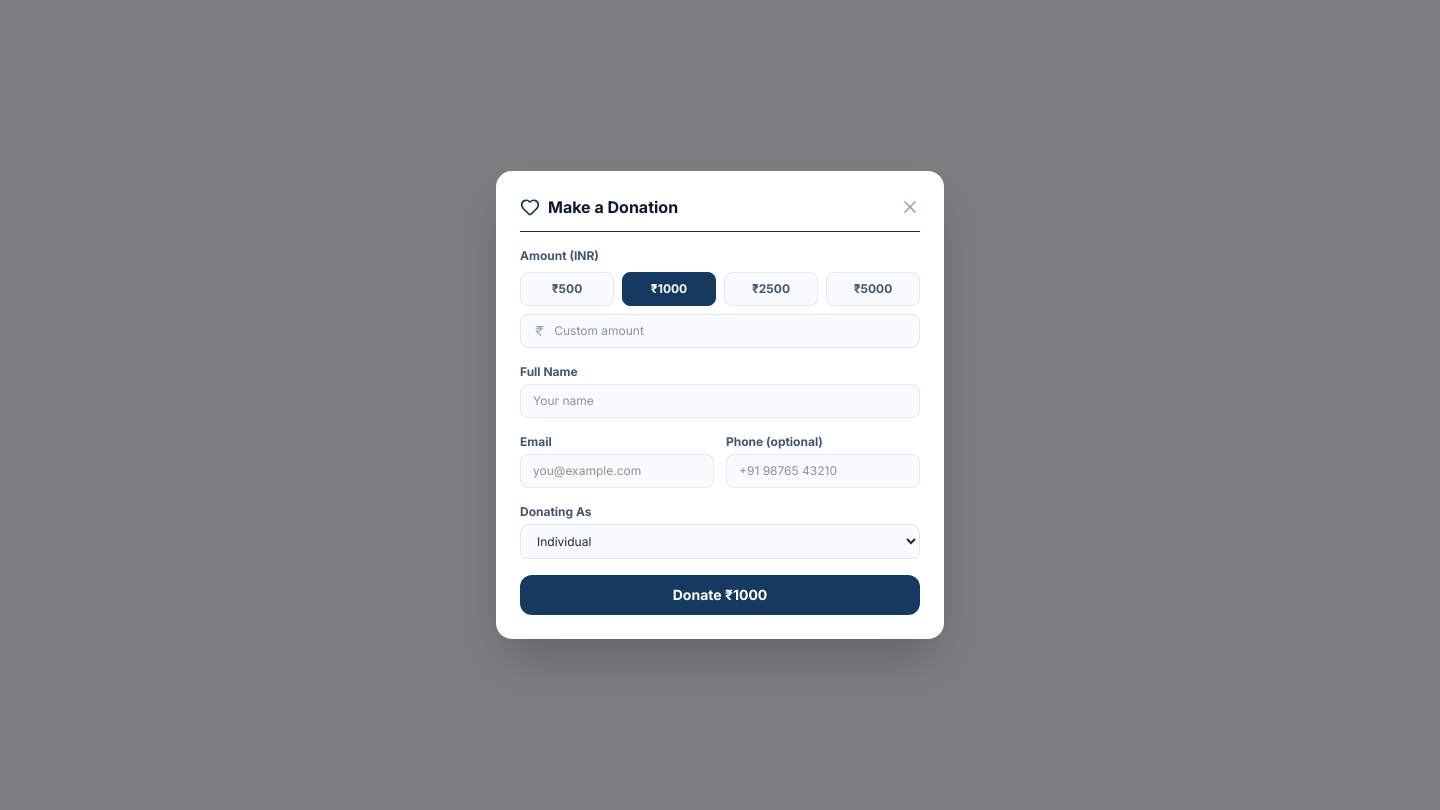
Test: DonateModal checkout flow › creates a checkout order and verifies payment after Razorpay reports success
Type "Ananya Mehta" into the field with placeholder "Your name". click: [720, 401]
box: [520,384,920,418]
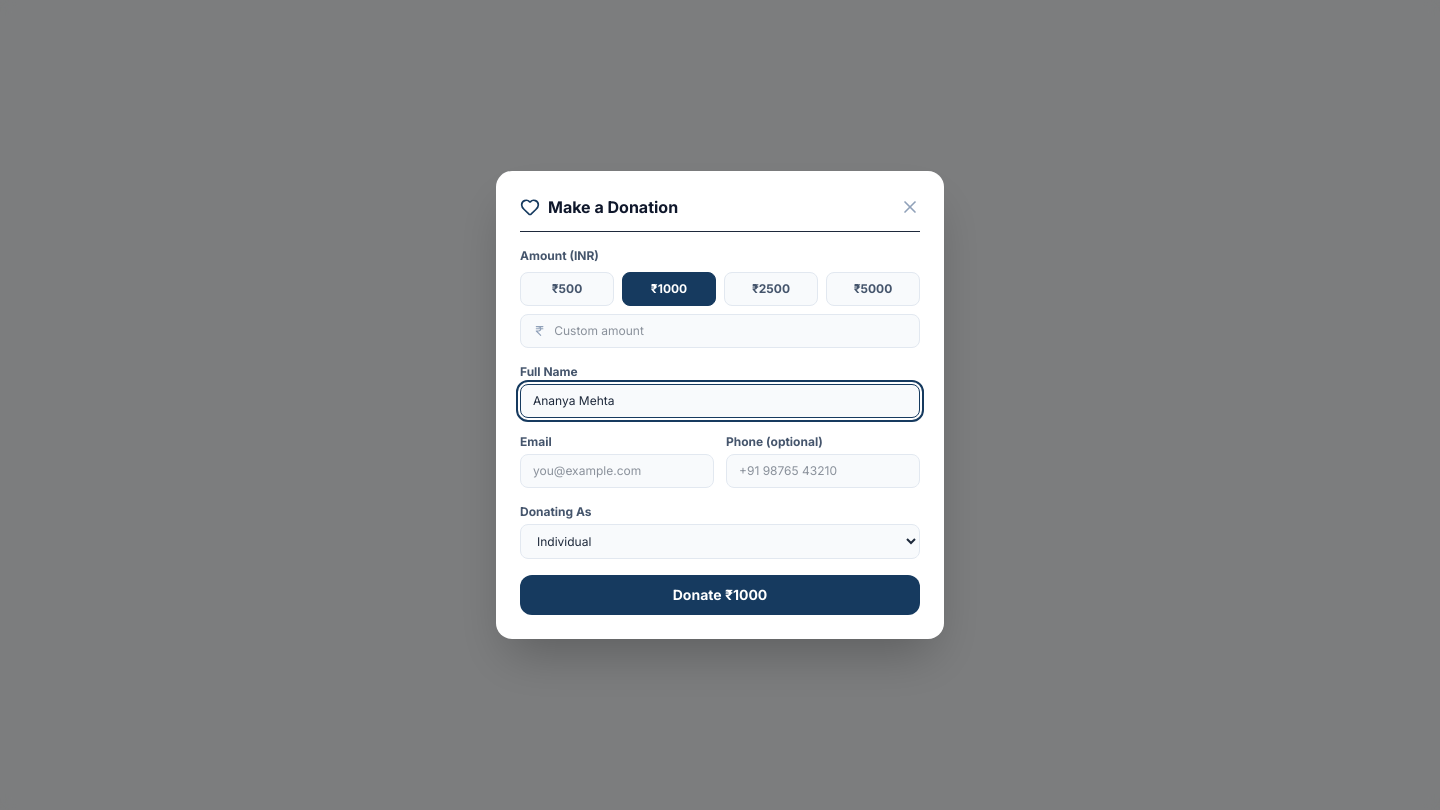
Type "ananya@example.com" into the field with placeholder "you@example.com". click: [617, 471]
box: [520,454,714,488]
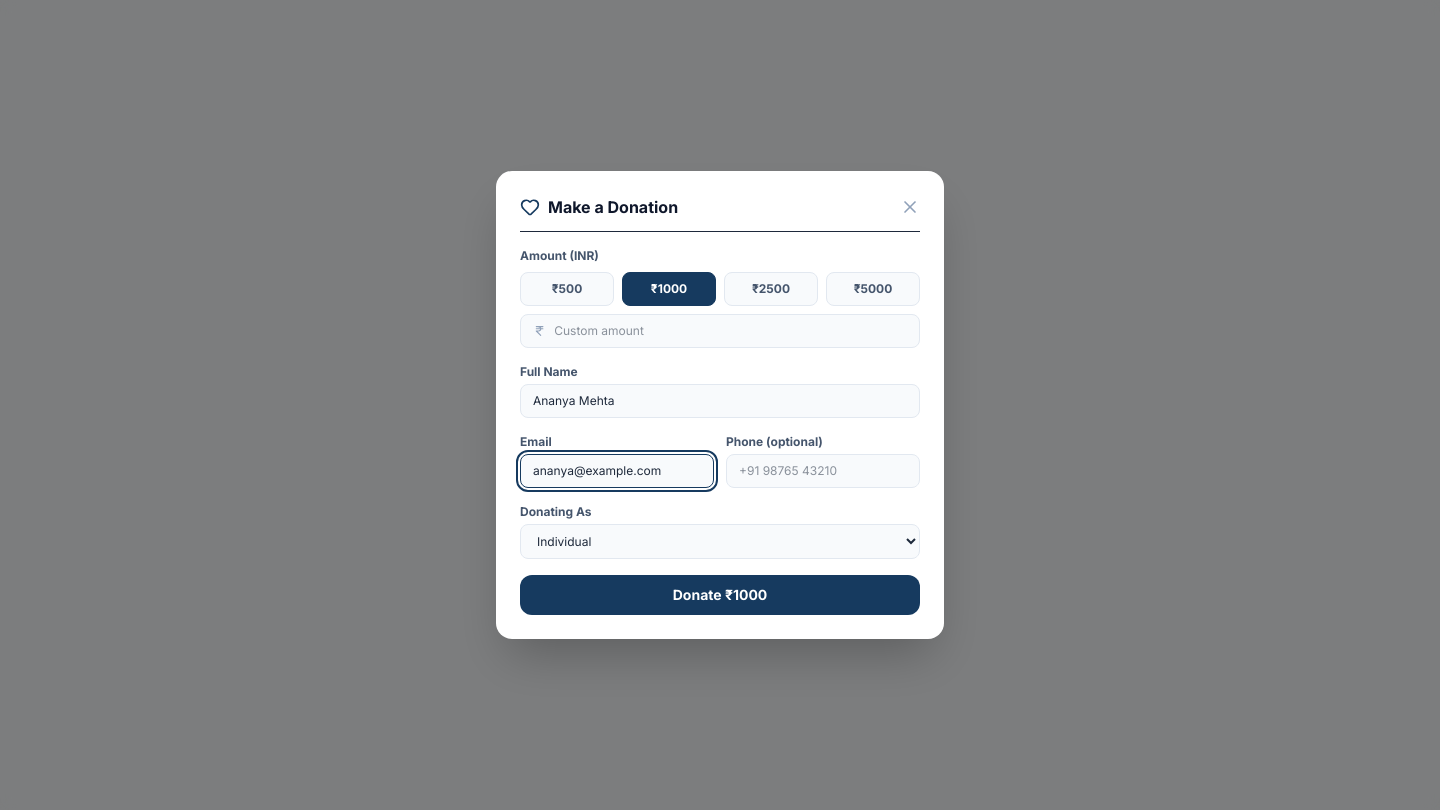
Click the button "Donate ₹1000". click: [720, 595]
box: [520,575,920,615]
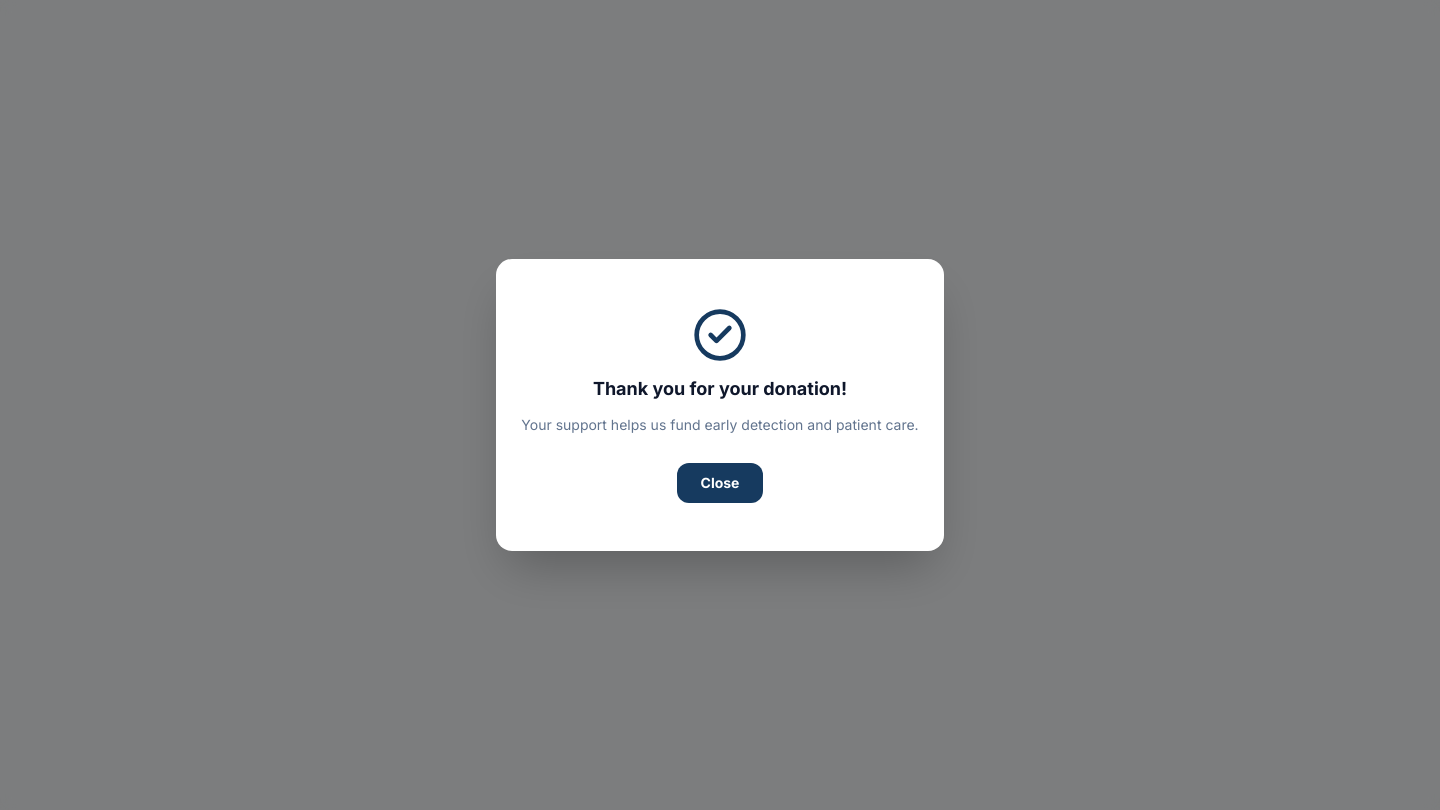
expect the heading "Thank you for your donation!" is shown: met, box [593,378,847,399]
